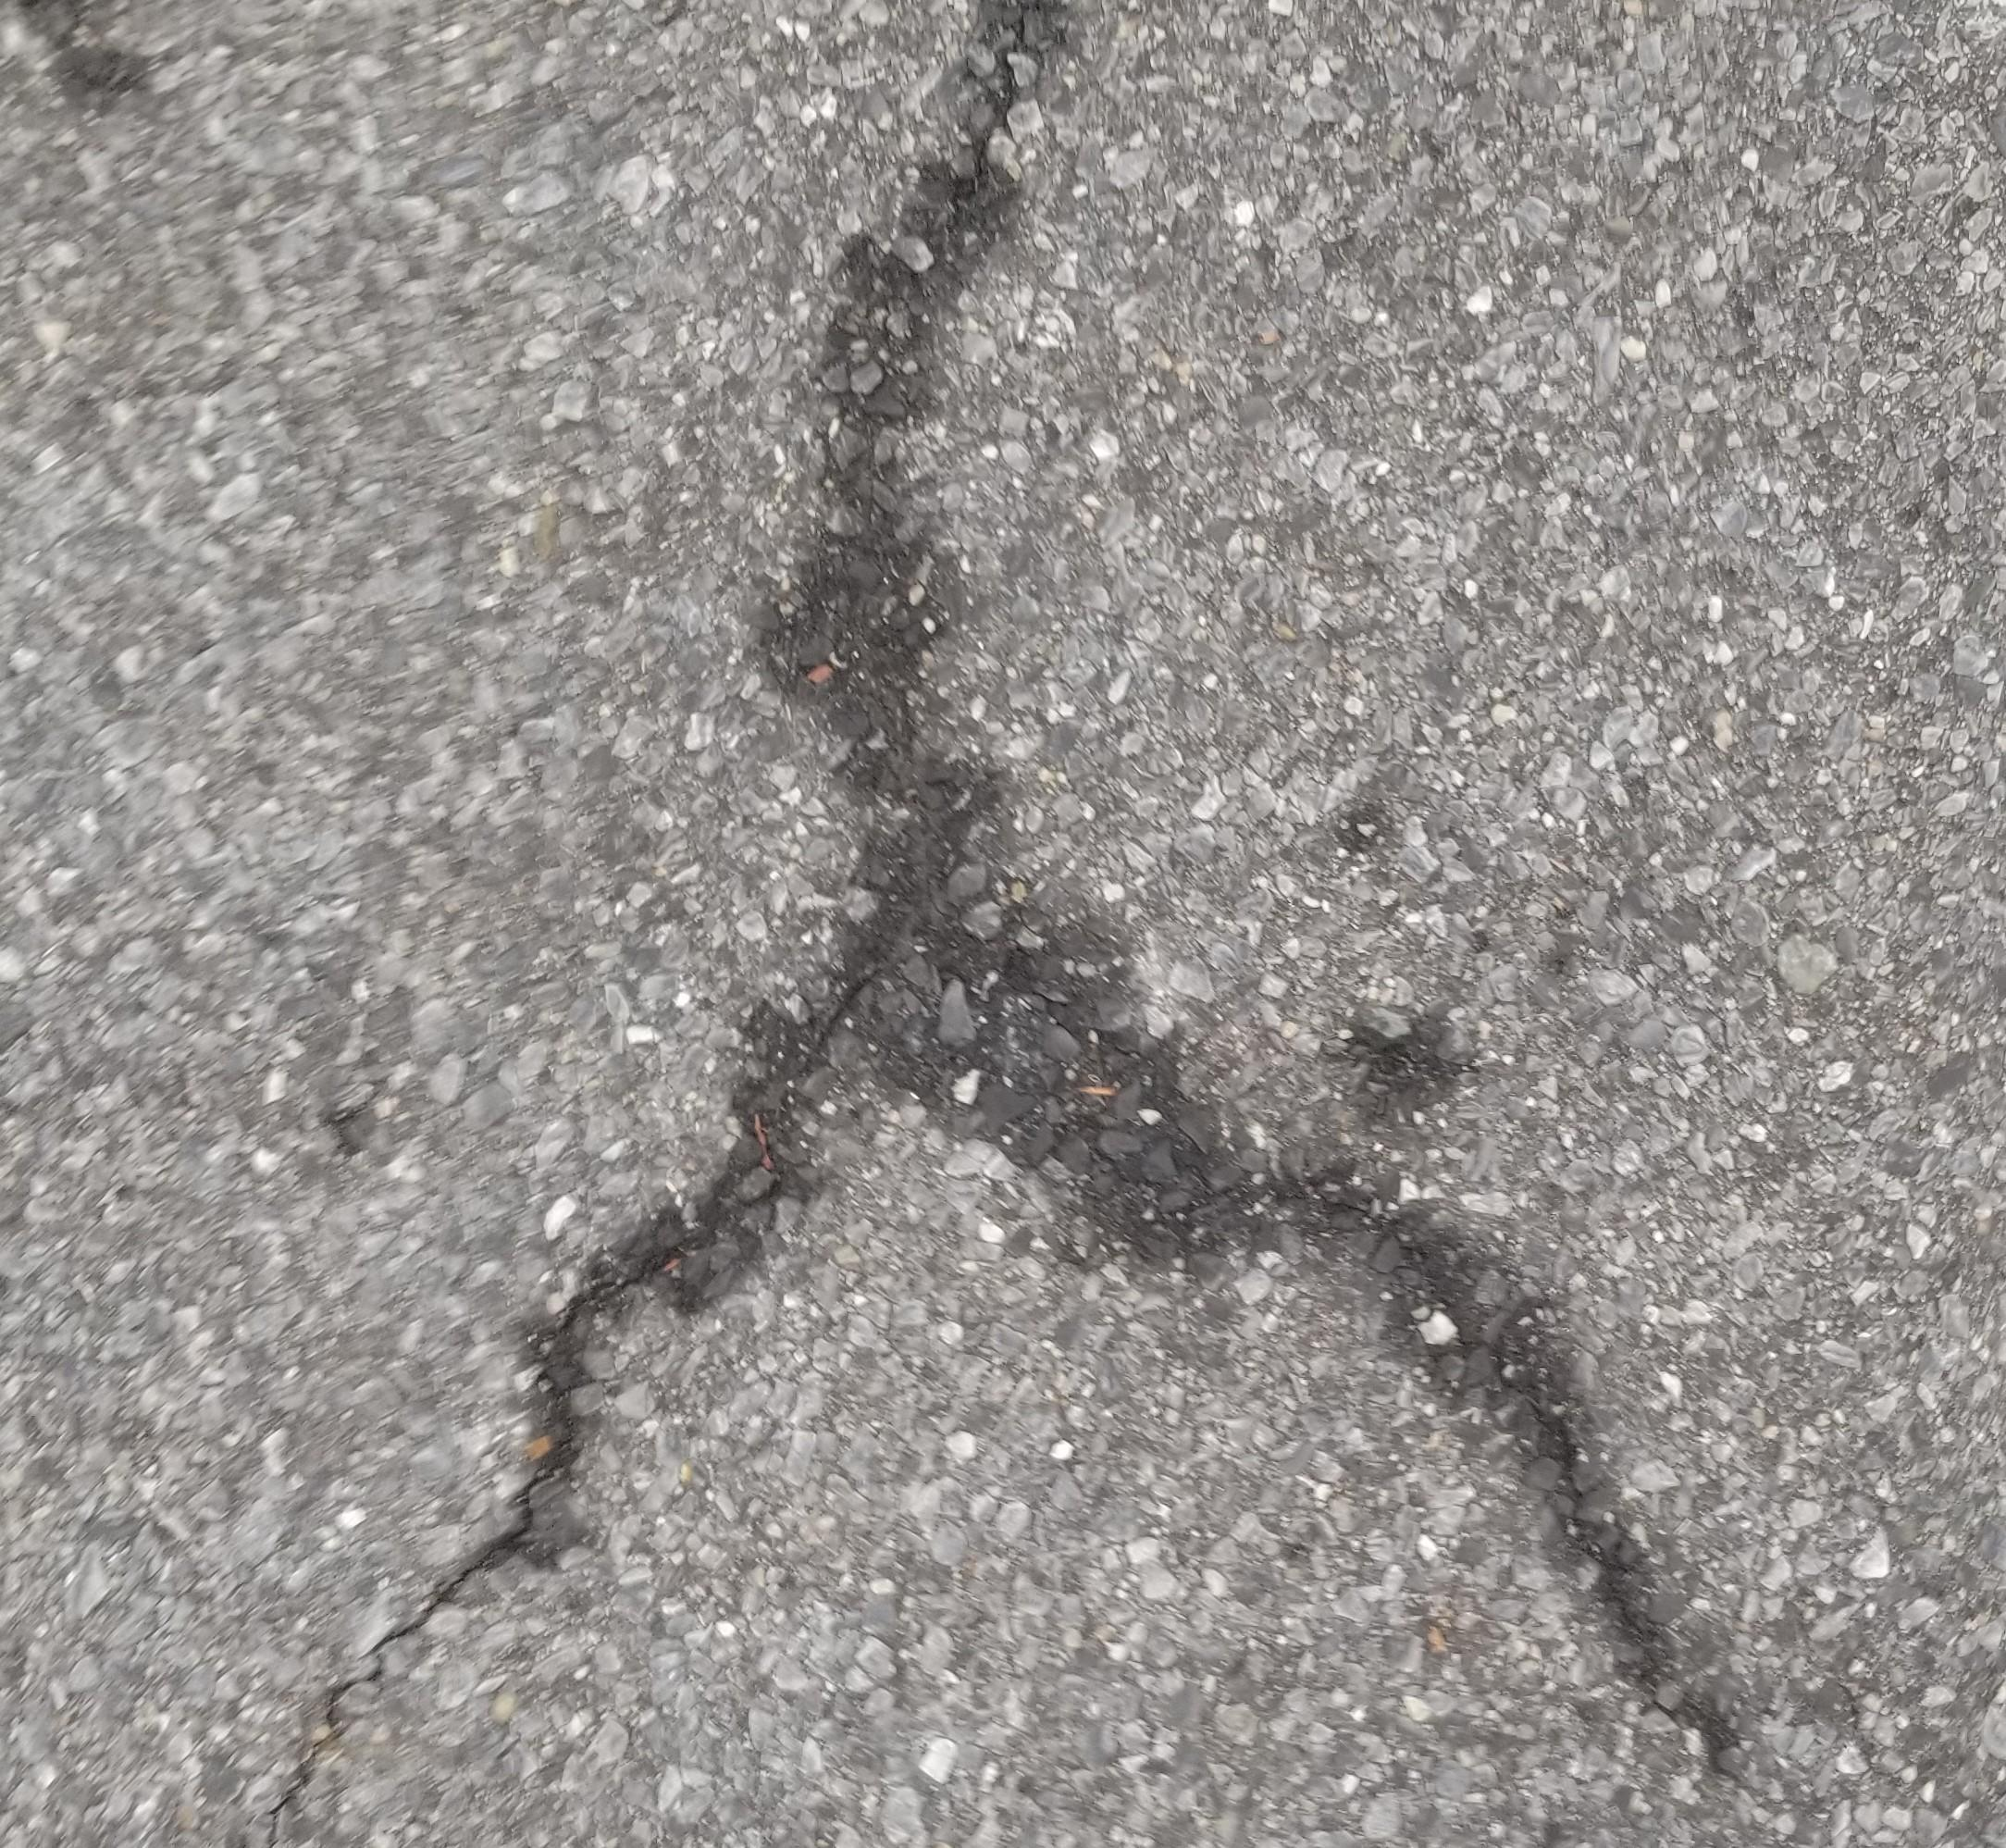crack: (924, 984, 1728, 1785), (295, 979, 882, 1790), (774, 2, 1062, 1009)
